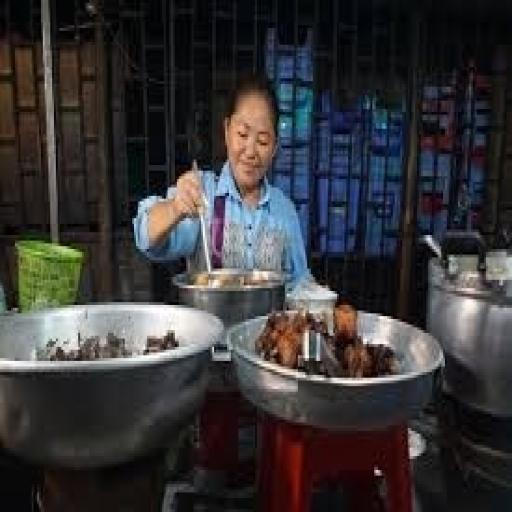eating: (130, 70, 316, 294)
